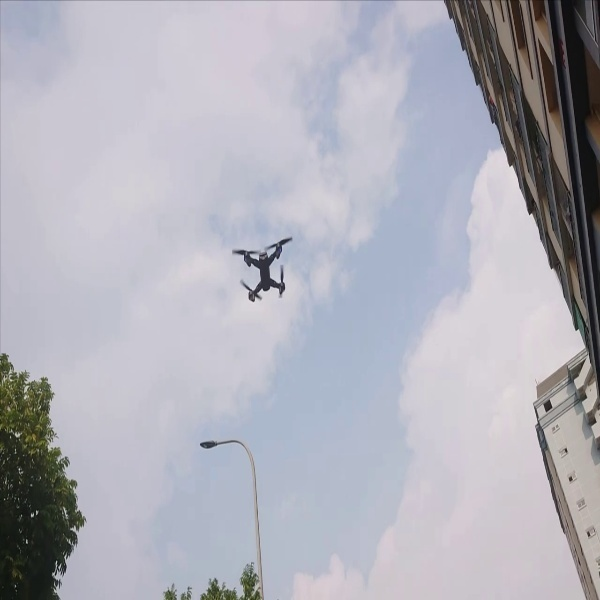drone: (219, 231, 303, 314)
